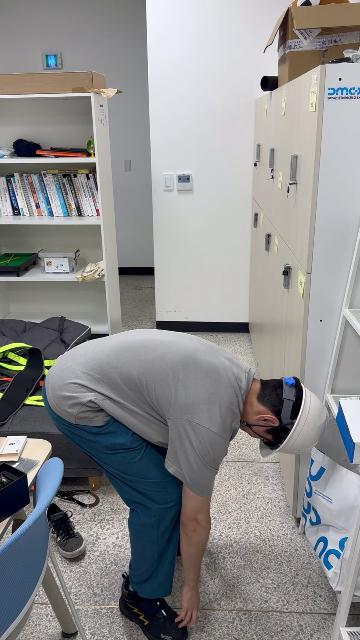helmet_worn: (261, 380, 328, 458)
shoe_not_worn: (45, 502, 86, 558)
shoe_worn: (119, 574, 186, 640)
vest_not_worn: (51, 331, 251, 481)
